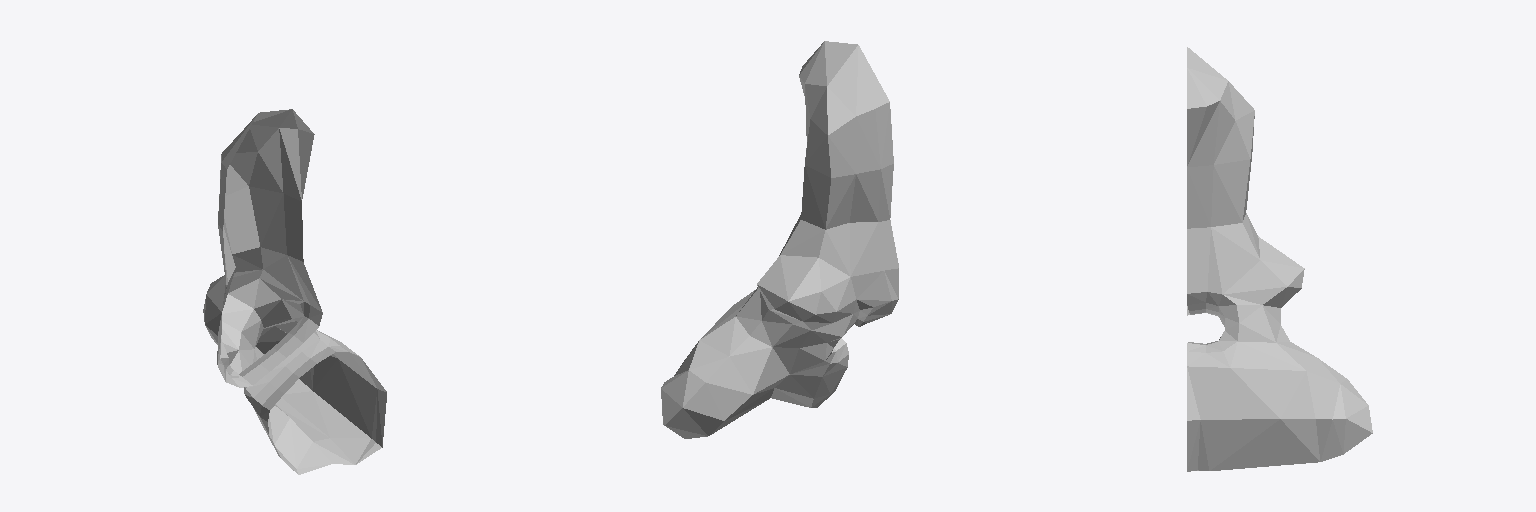
Rendered from polygon131.obj.
The picture shows the model from 3 angles: view 1: azimuth 30°, elevation 25°; view 2: azimuth 150°, elevation 25°; view 3: azimuth 270°, elevation 25°; orthographic projection.
Visible parts, largest first — view 1: polygon131; view 2: polygon131; view 3: polygon131.
Part boxes in pixels (x1,y1,x2,y2): polygon131: (203,109,386,474); polygon131: (661,41,898,438); polygon131: (1187,47,1372,471).
Size of the model in its own units: 1019 by 2157 by 967.